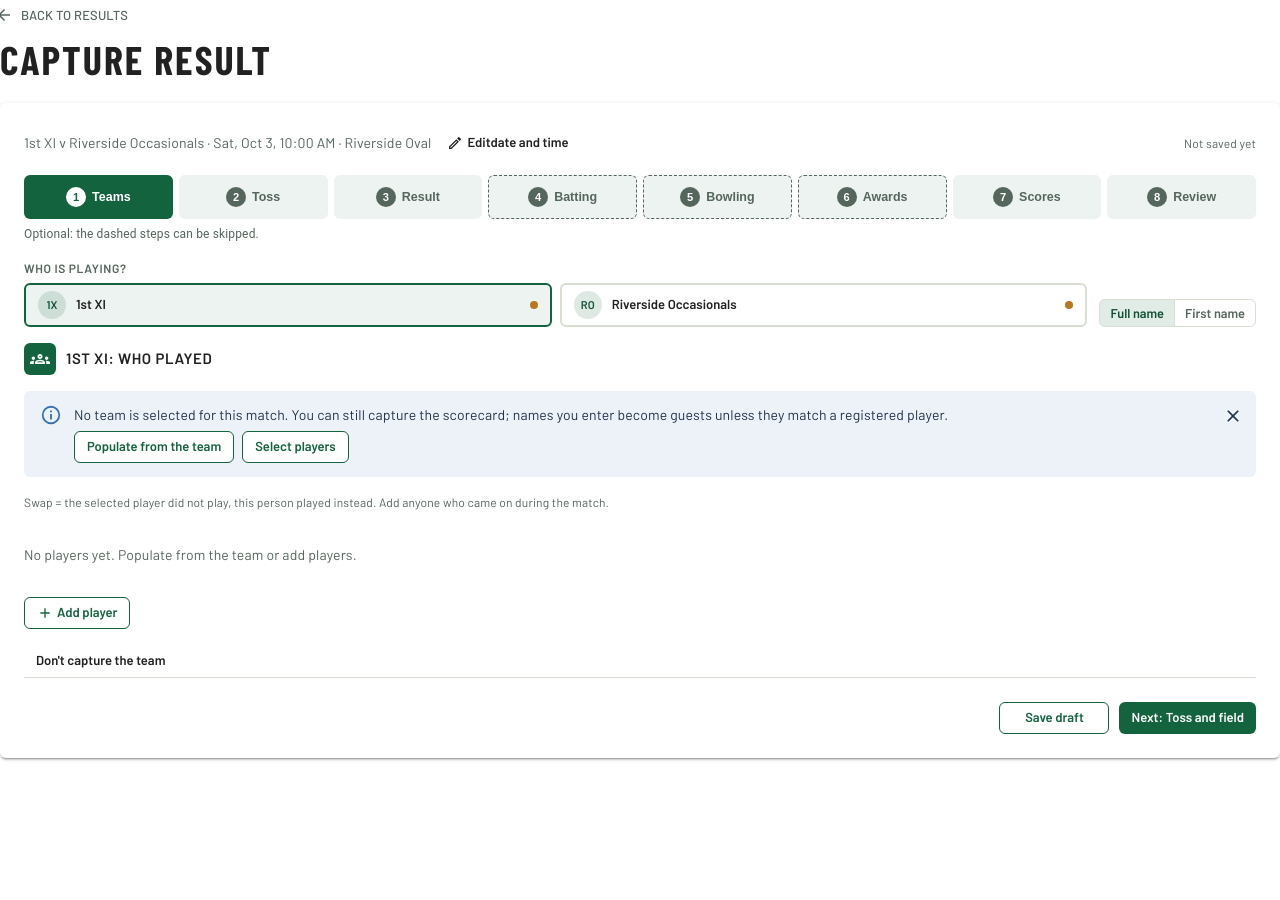
it: Teams step › "Select players" opens the Add player picker in the page instead of leaving the result flow
Click the button "Select players": (296, 447) [242,431,349,463]
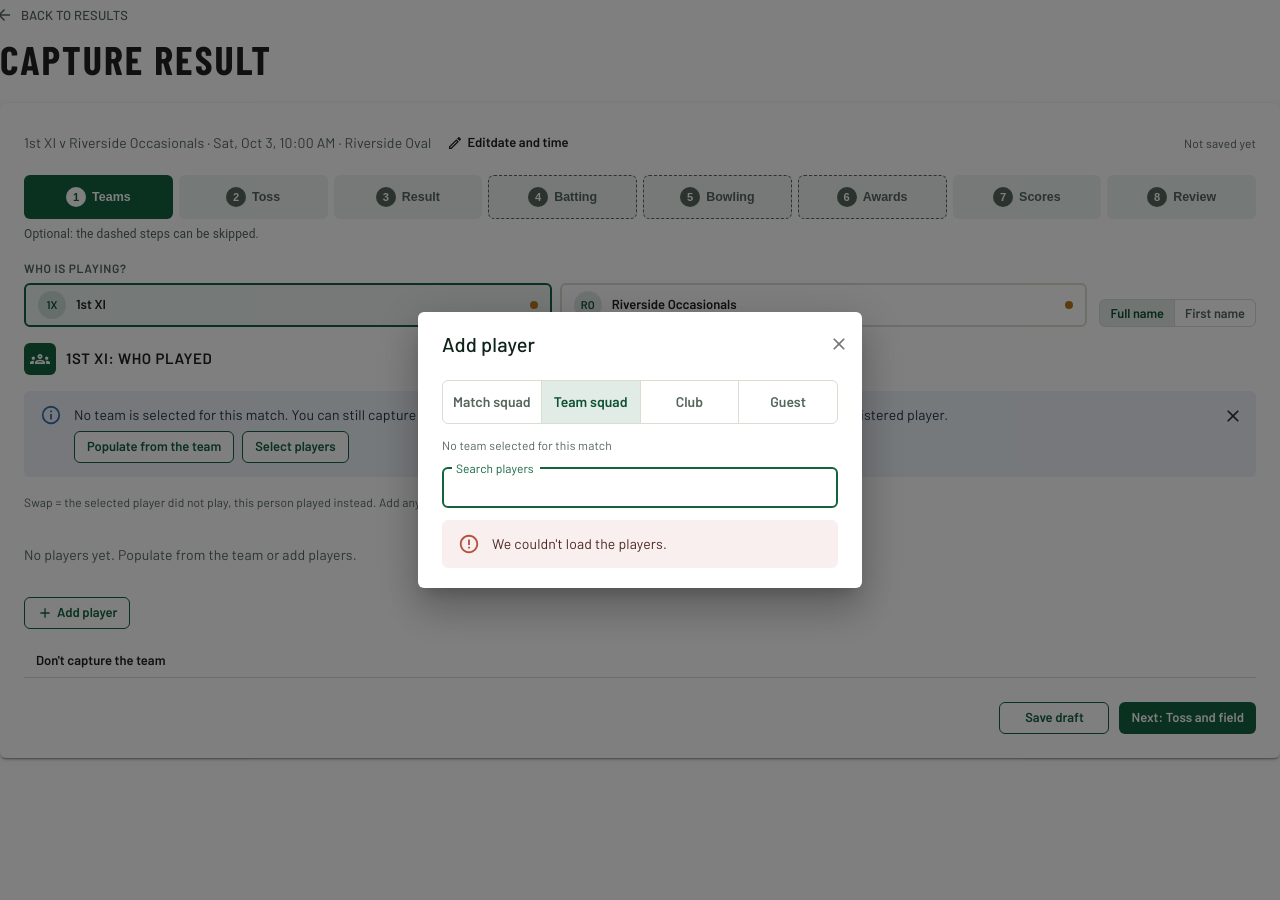
Expected: the dialog "Add player" is shown, [418,312,862,588]
